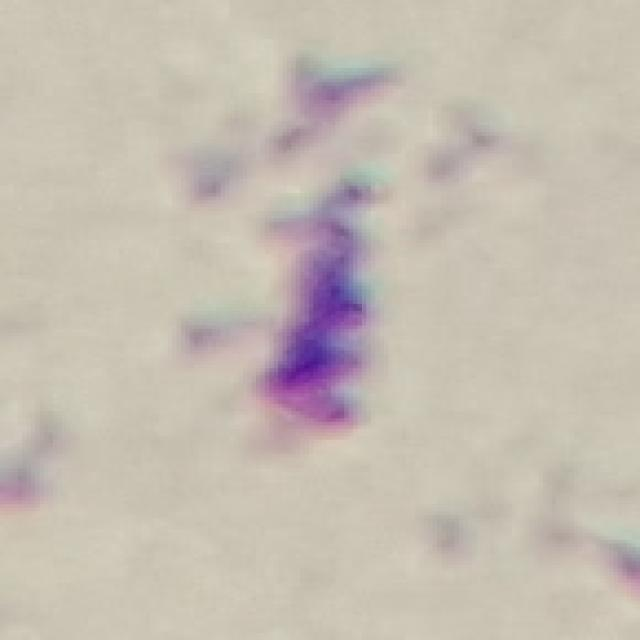non-sperm: (246, 168, 382, 434)
